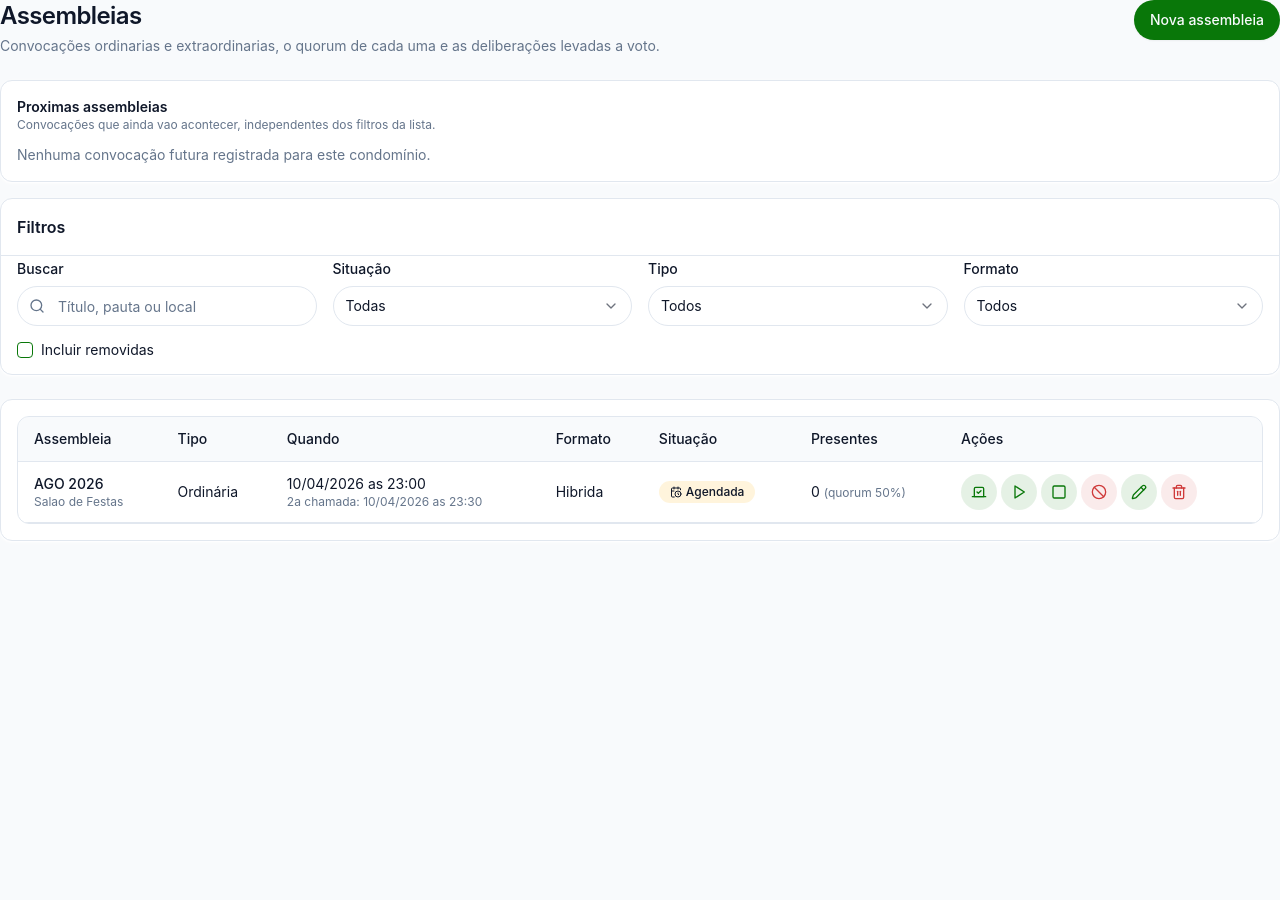
Scenario: Gestão — lista de status e registro › IT-374: registrar voto de unidade pendente atualiza a linha e a apuracao
Expected: the text "AGO 2026" is shown, top-left (34, 474), bottom-right (104, 494)
Click the button named "Deliberações de AGO 2026" at (979, 492), box top-left (961, 474), bottom-right (997, 510)
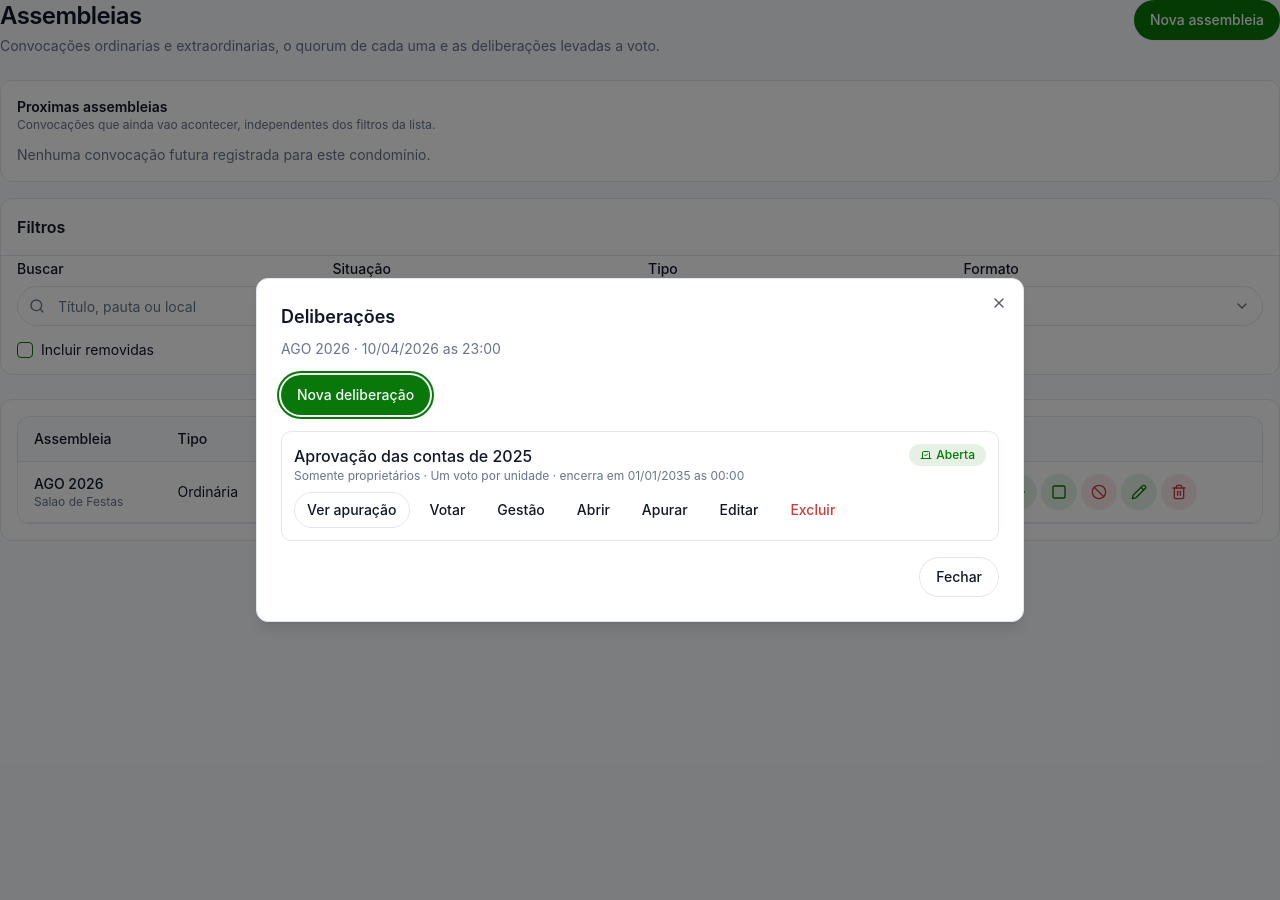
Result: the text "Aprovação das contas de 2025" is shown at top-left (294, 446), bottom-right (532, 466)
Click the button "Ver apuração" at (352, 510), box top-left (294, 492), bottom-right (410, 528)
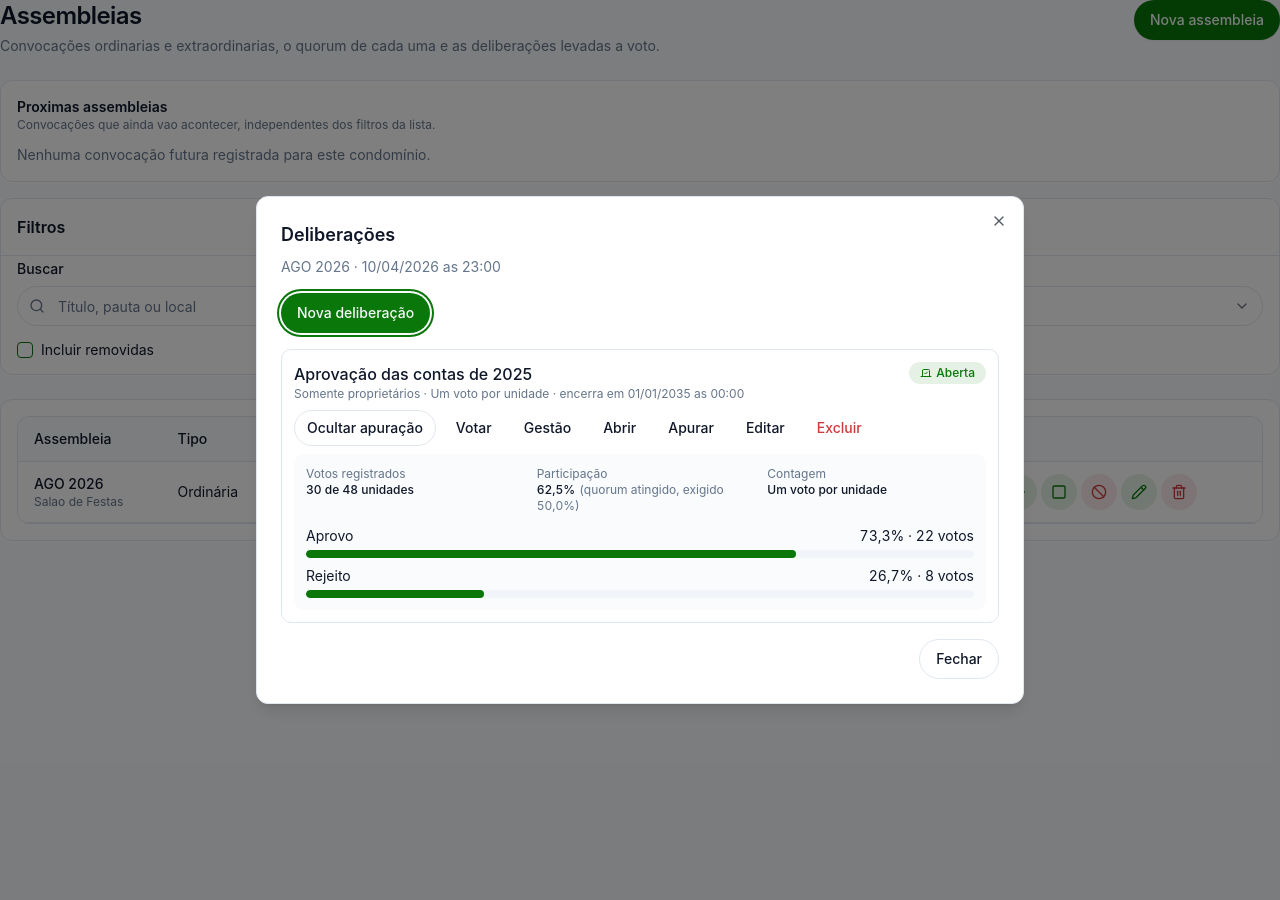
Result: the text "30 de 48 unidades" is shown at top-left (306, 482), bottom-right (414, 497)
Click the button "Gestão" at (547, 428), box top-left (512, 410), bottom-right (583, 446)
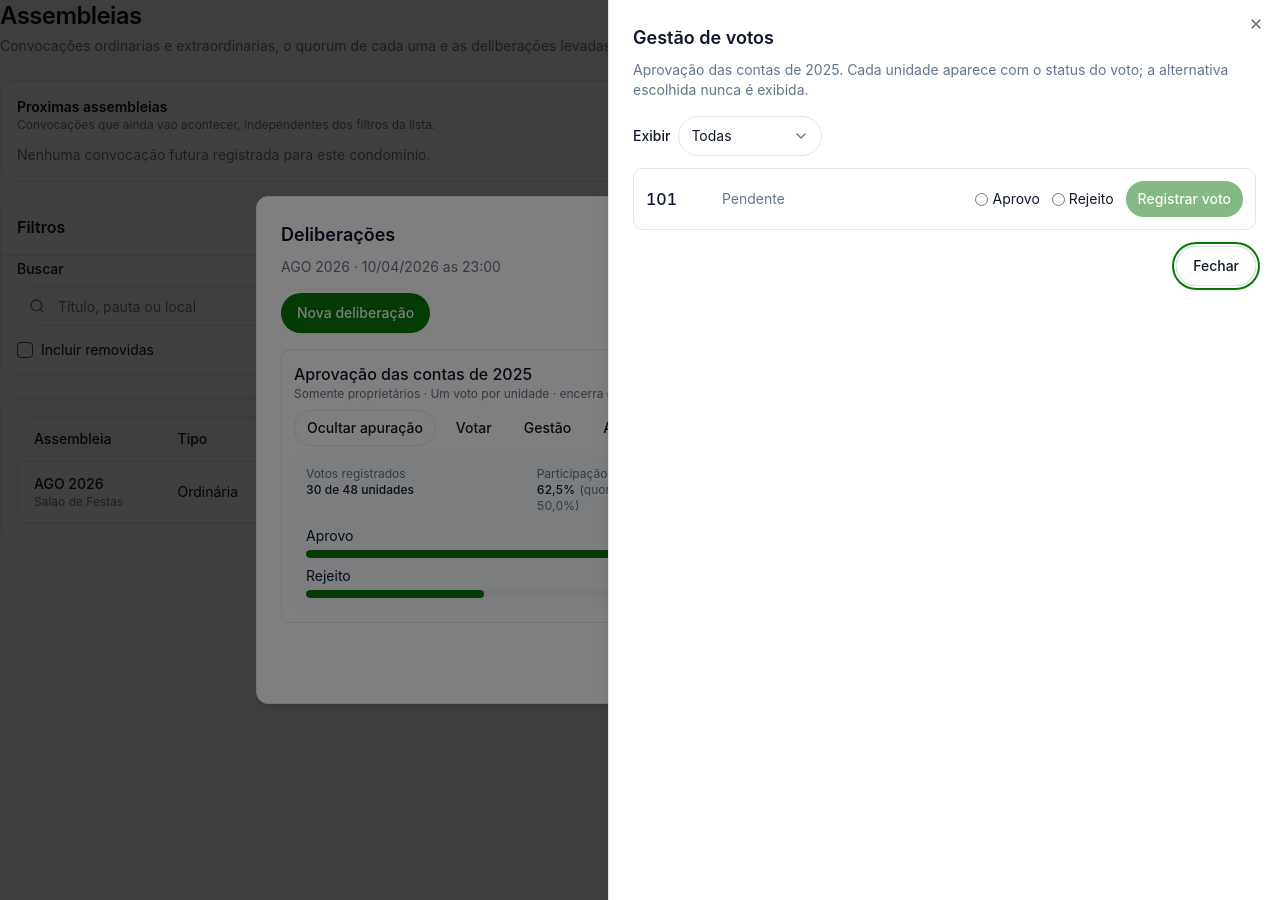
Result: the heading "Gestão de votos" is shown at top-left (633, 27), bottom-right (774, 48)
Result: the text "101" is shown at top-left (646, 189), bottom-right (677, 209)
Click the radio button labelled "Aprovo" at (982, 199), box top-left (976, 192), bottom-right (988, 206)
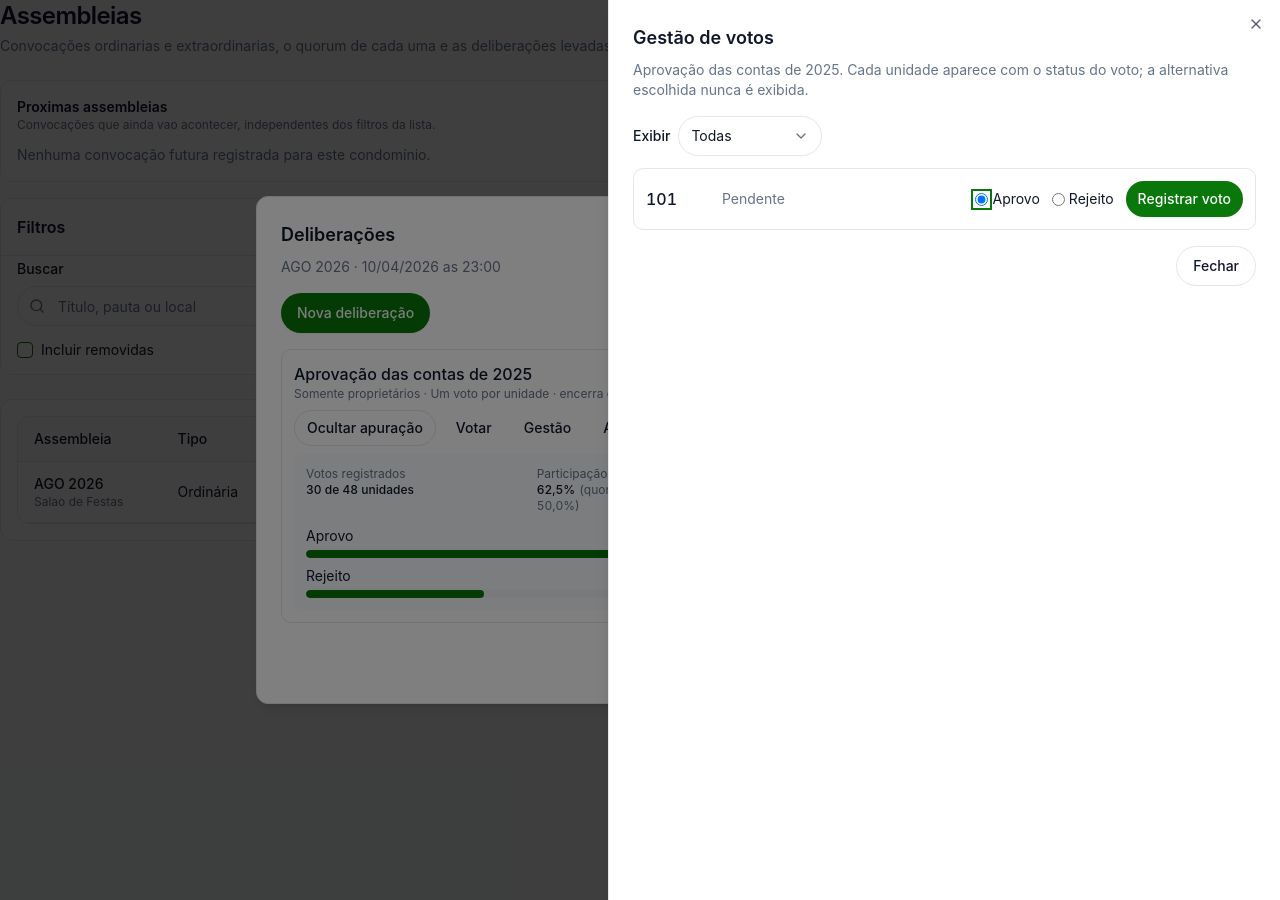
Click the button with aria-label "Registrar voto da unidade 101" at (1184, 199), box top-left (1126, 181), bottom-right (1243, 217)
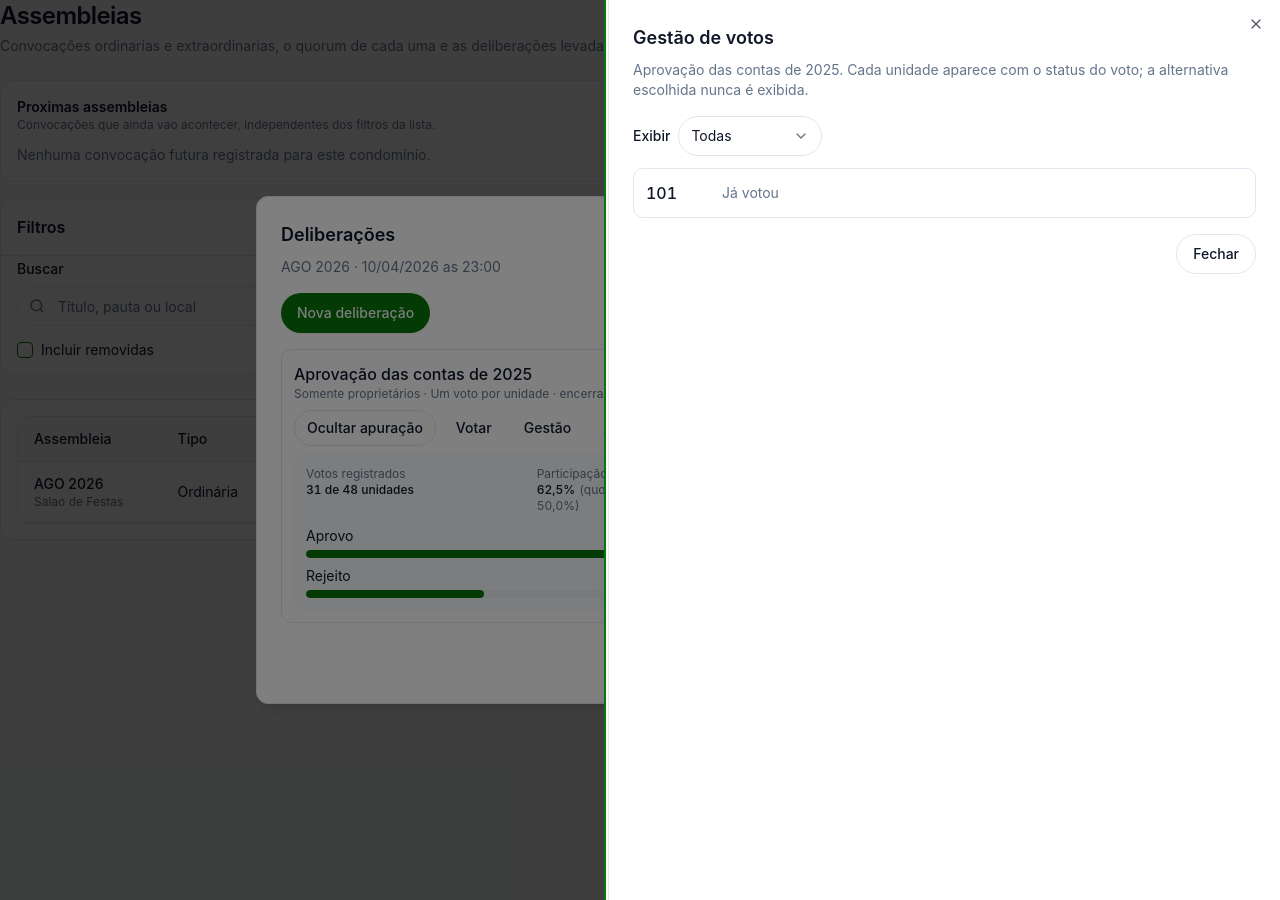
Result: the text "Já votou" is shown at top-left (722, 183), bottom-right (779, 203)
Result: the text "31 de 48 unidades" is shown at top-left (306, 482), bottom-right (414, 497)
